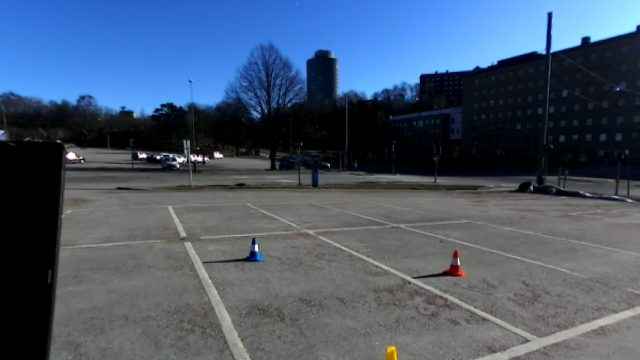blue: (242, 235, 266, 265)
orange: (443, 250, 467, 278)
